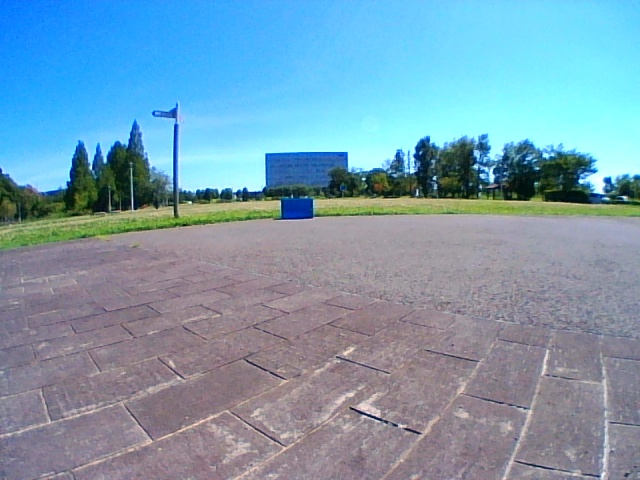blue_box: (281, 198, 314, 219)
